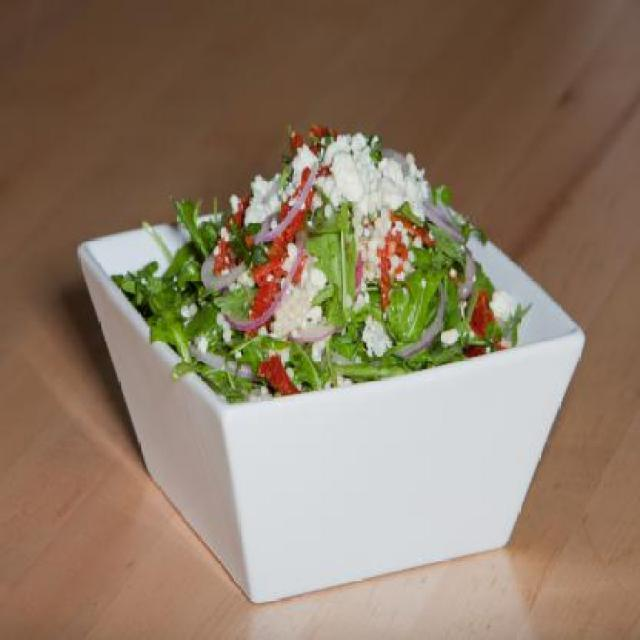Salad: (101, 130, 537, 418)
